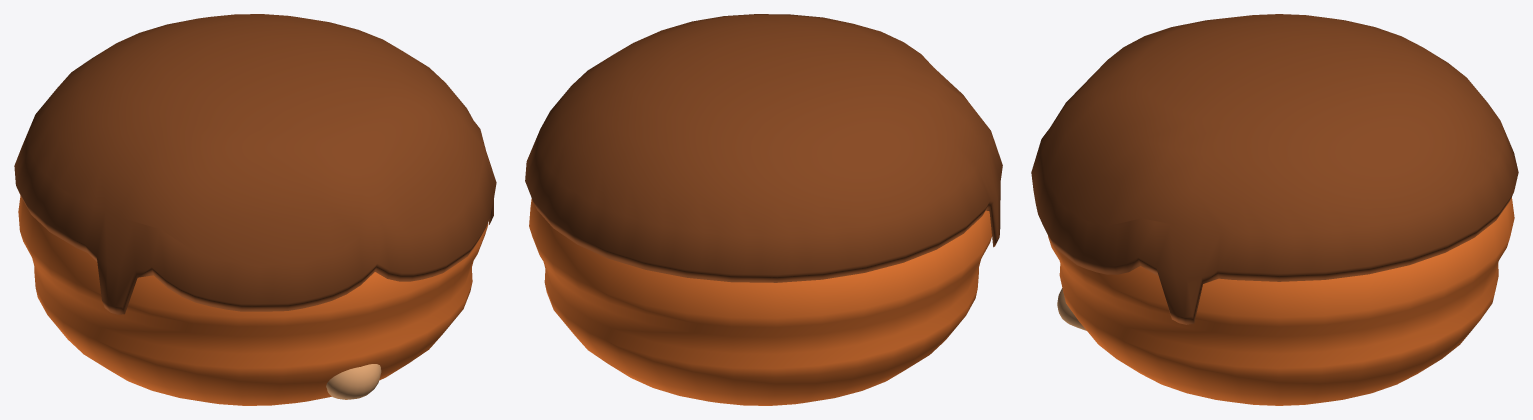
File: boston_cream.fbx
3 views of the same model, side by side, from view 1: azimuth 30°, elevation 25°; view 2: azimuth 150°, elevation 25°; view 3: azimuth 270°, elevation 25° (orthographic).
Parts seen in each view (by area): view 1: boston cream.001; view 2: boston cream.001; view 3: boston cream.001.
Boxes of the visible parts, x1,y1,x2,y2 form: boston cream.001: (14,14,496,405); boston cream.001: (525,14,1002,405); boston cream.001: (1031,14,1518,405).
Size of the model in its own units: 240 by 174 by 245.
